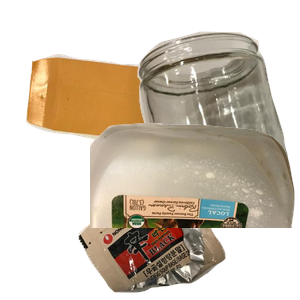glass: (135, 29, 300, 209)
paper: (23, 51, 206, 189)
plastic: (90, 120, 300, 300)
trash: (76, 170, 300, 300)
